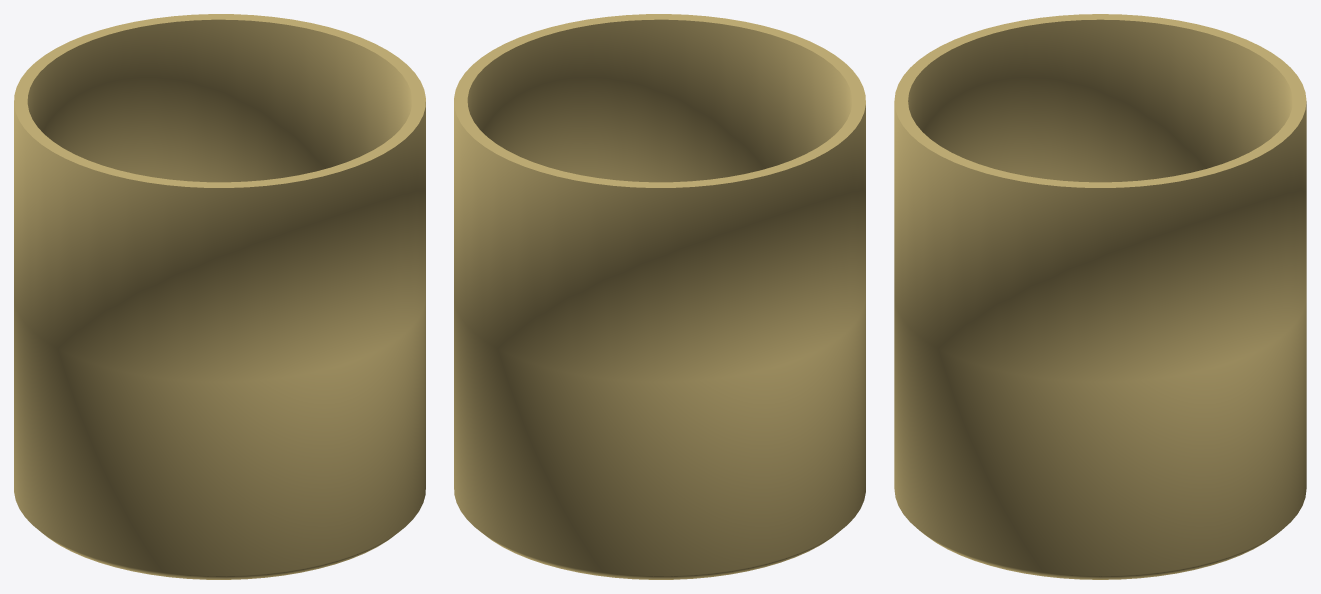
File: CupForPens.fbx
3 renders of one model, left to right at view 1: azimuth 30°, elevation 25°; view 2: azimuth 150°, elevation 25°; view 3: azimuth 270°, elevation 25°, orthographic.
Visible parts, largest first — view 1: CupForPens; view 2: CupForPens; view 3: CupForPens.
Part boxes in pixels (left/top/right/bottom): CupForPens: left=14, top=14, right=425, bottom=579; CupForPens: left=454, top=14, right=865, bottom=579; CupForPens: left=894, top=14, right=1306, bottom=579.
Bounding box in the file's own units: 78.15 × 82.71 × 78.15.
